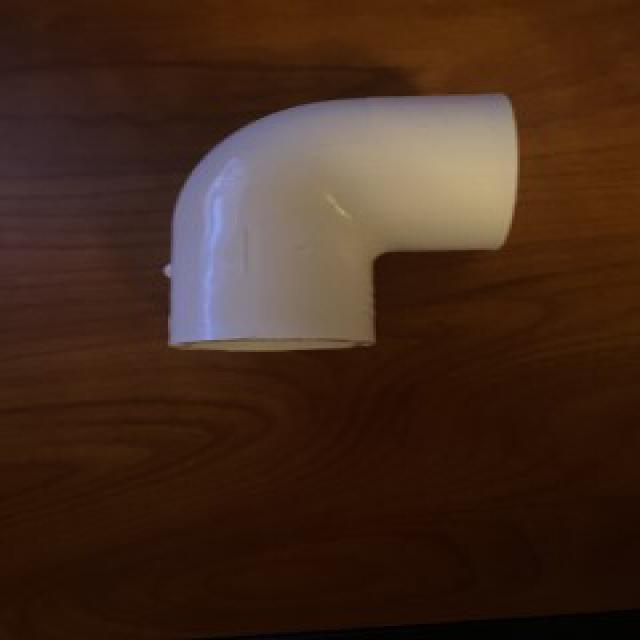L Joint: (165, 93, 521, 353)
